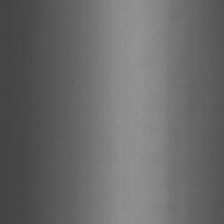inclusion: (20, 114, 31, 131)
